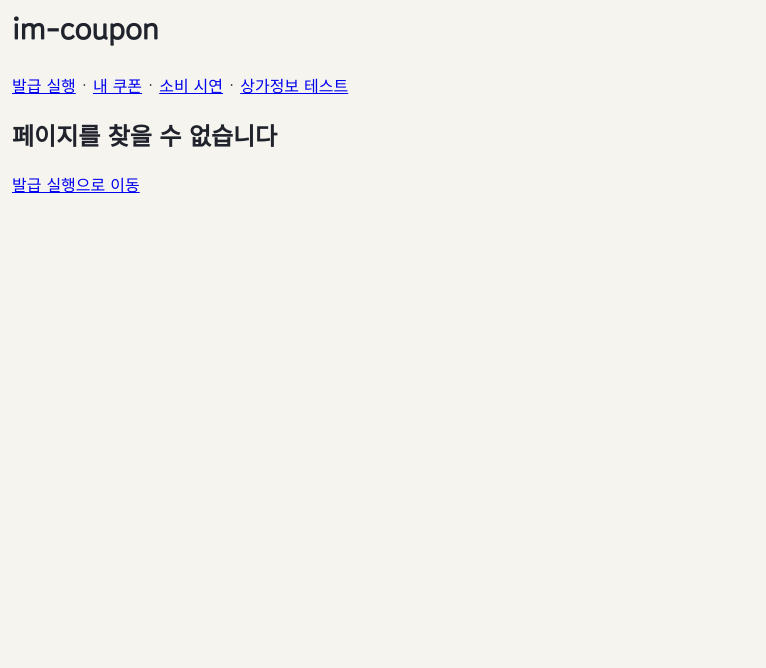
Test: 없는 경로에서 안내를 보여주고 발급 화면으로 이동한다
expect the heading "페이지를 찾을 수 없습니다" is shown: met, box [12, 117, 277, 152]
Click the link "발급 실행으로 이동".
click(76, 184)  # box [12, 172, 140, 196]
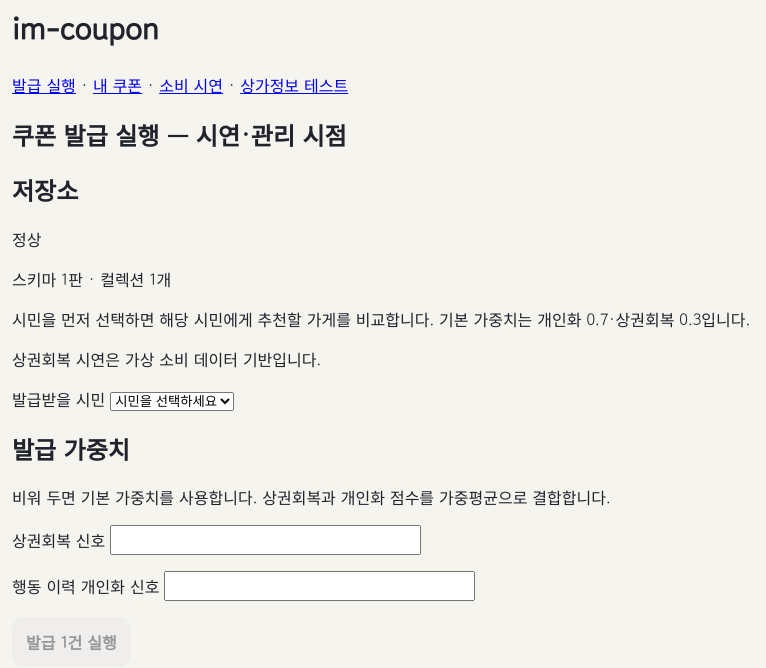
expect the text "정상" is shown: met, box [12, 227, 42, 251]
